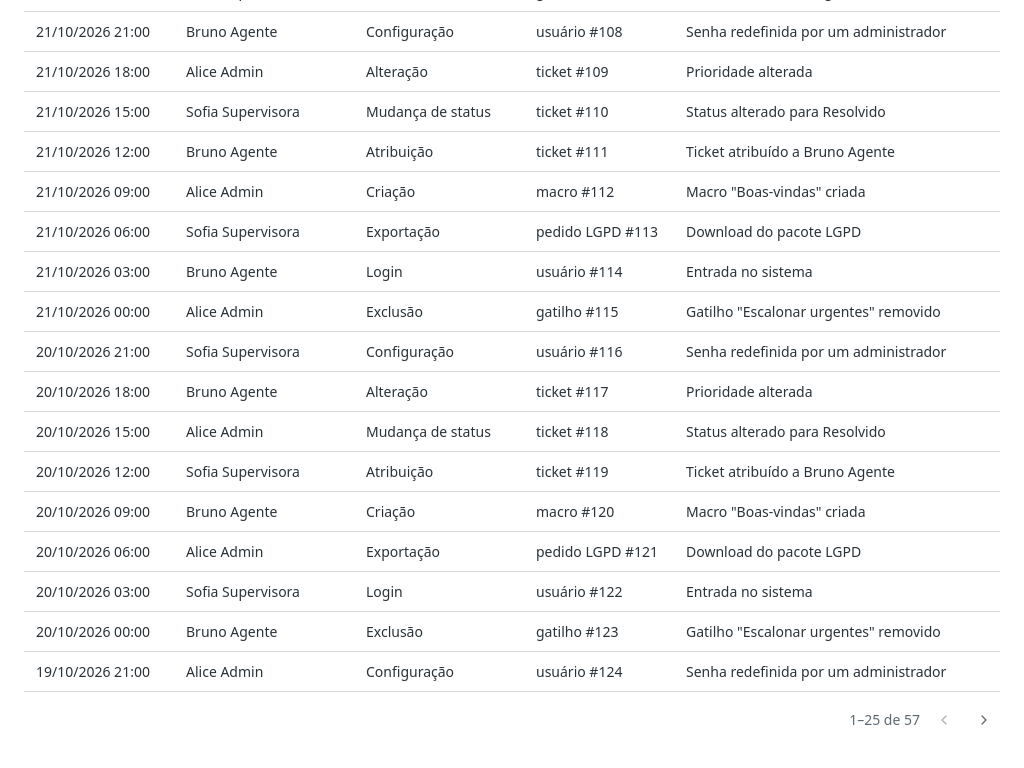
Test: Registros de auditoria › lista com paginação do servidor e avança de página
(page scrolled)
expect the text "1–25 de 57" is shown: met, box [849, 711, 920, 729]
Click the button named "Próxima página" at (984, 720), box [968, 704, 1000, 736]
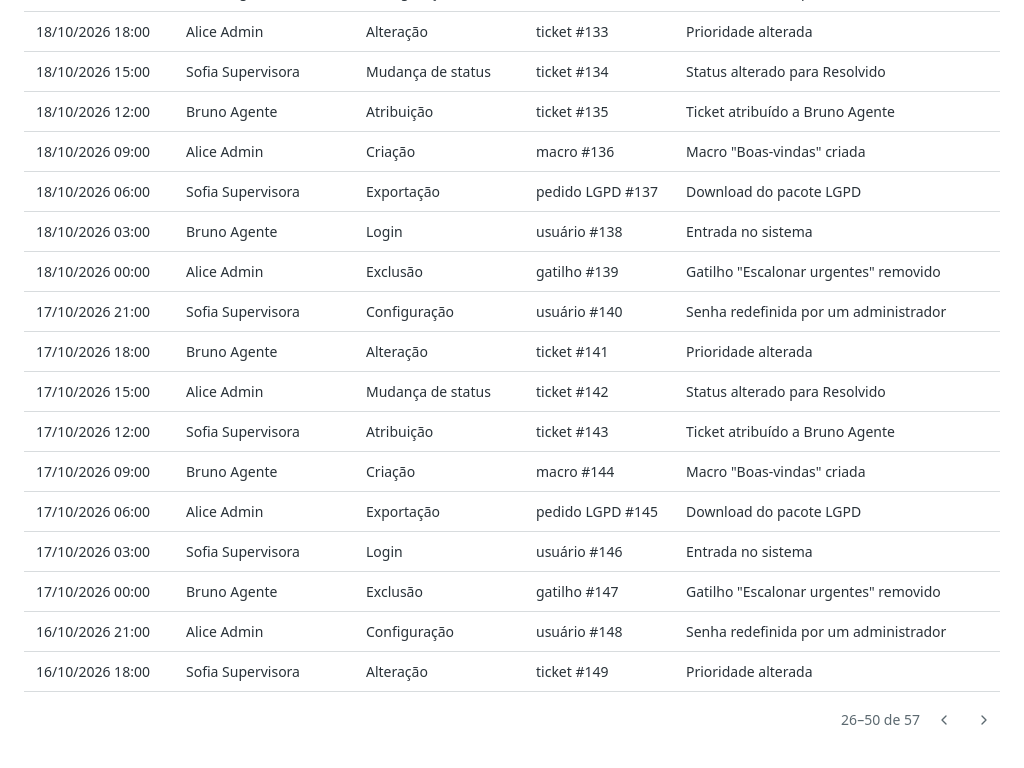
expect the text "26–50 de 57" is shown: met, box [841, 711, 920, 729]
Click the button named "Página anterior" at (944, 720), box [928, 704, 960, 736]
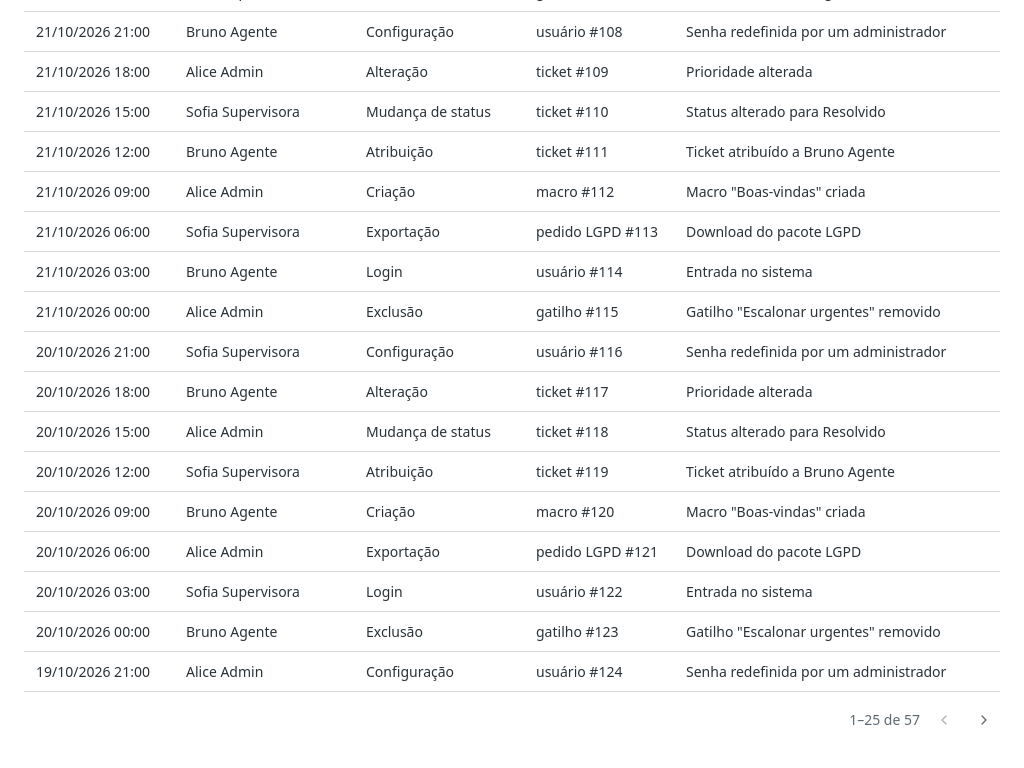
expect the text "1–25 de 57" is shown: met, box [849, 711, 920, 729]
